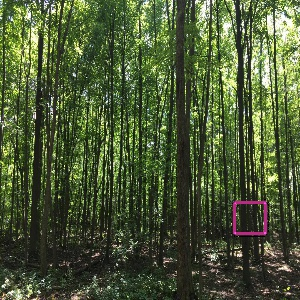square: (230, 199, 270, 238)
